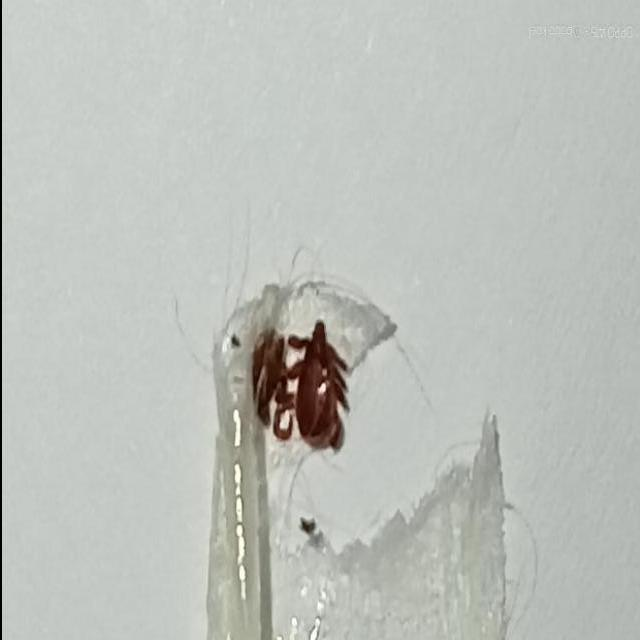Rhipicephalus Sanguineus-M: (271, 323, 347, 452)
